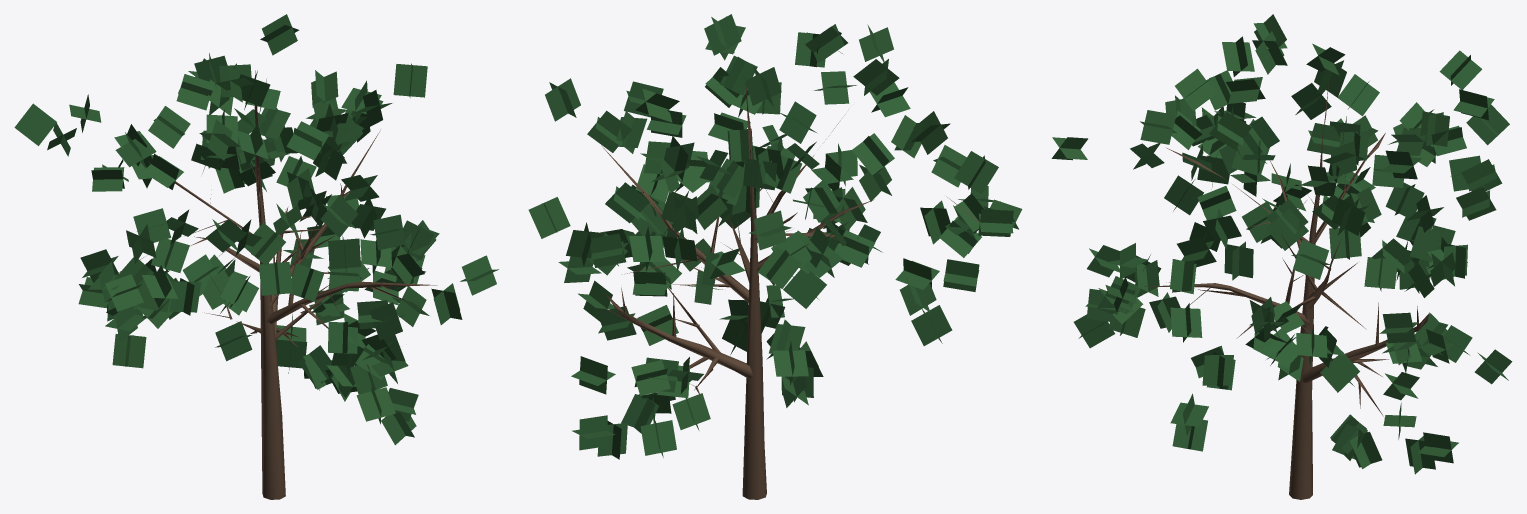
Rendered from oak-1-lod2.glb.
The picture shows the model from 3 angles, left to right: view 1: azimuth 30°, elevation 25°; view 2: azimuth 150°, elevation 25°; view 3: azimuth 270°, elevation 25°; orthographic projection. The views are drawn at different scales.
Parts seen in each view (by area): view 1: leaves, branches; view 2: leaves, branches; view 3: leaves, branches.
Part boxes in pixels (bbox=[...]): leaves: bbox=[14, 14, 498, 445]; branches: bbox=[115, 70, 437, 499]; leaves: bbox=[528, 14, 1022, 459]; branches: bbox=[597, 77, 979, 499]; leaves: bbox=[1051, 14, 1512, 474]; branches: bbox=[1144, 81, 1429, 499].
Size of the model in its own units: 11.83 by 13.34 by 12.09.
